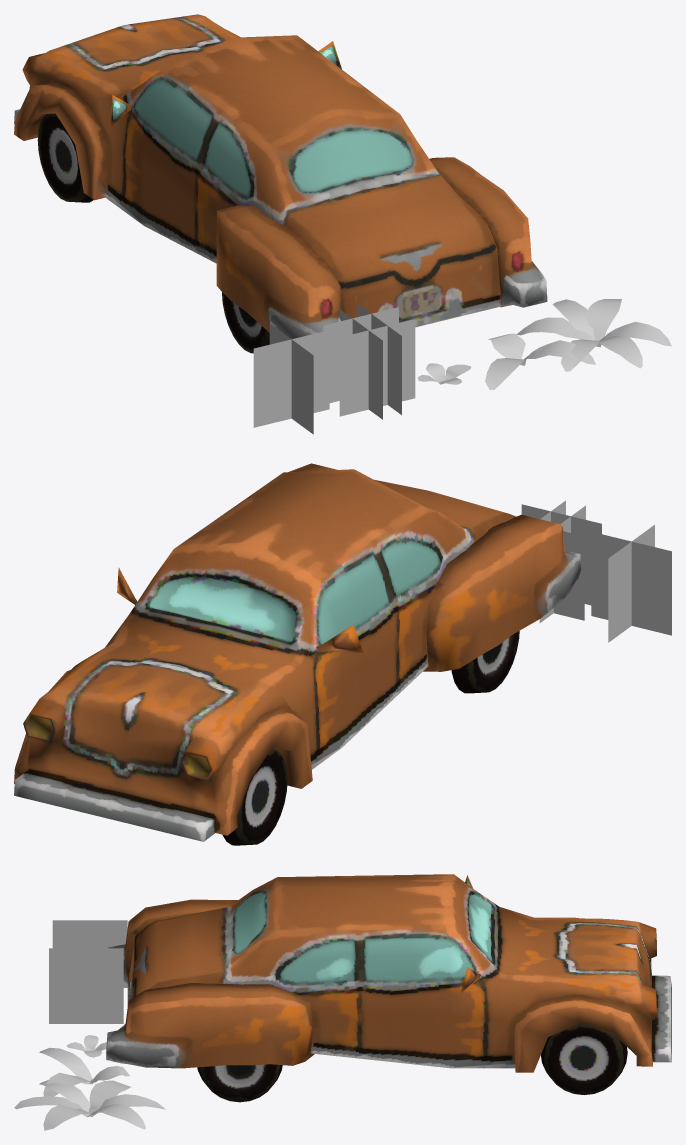
File: LP Example.fbx
The picture shows the model from 3 angles, top to bottom: view 1: azimuth 30°, elevation 25°; view 2: azimuth 150°, elevation 25°; view 3: azimuth 270°, elevation 25°; orthographic projection. The views are drawn at different scales.
Parts seen in each view (by area): view 1: Car, Grässs.002, Grässs.001, PedalPLant_B, Wheel_Front, PedalPlant_A, Wheel_Back, Flower; view 2: Car, Grässs.001, Wheel_Front, Grässs.002, Wheel_Back; view 3: Car, Grässs.002, Wheel_Front, PedalPLant_B, Wheel_Back, Grässs.001, PedalPlant_A, Flower.
Part boxes in pixels (x1,y1,x2,y2): Car: (14,14,547,339); Grässs.002: (323,304,415,419); Grässs.001: (253,323,329,434); PedalPLant_B: (516,299,671,371); Wheel_Front: (37,113,93,202); PedalPlant_A: (485,333,595,390); Wheel_Back: (222,292,269,353); Flower: (417,363,471,384); Car: (14,463,581,841); Grässs.001: (591,525,671,642); Wheel_Front: (222,748,287,845); Grässs.002: (521,500,601,622); Wheel_Back: (451,631,519,693); Car: (106,874,671,1072); Grässs.002: (49,948,123,1023); Wheel_Front: (541,1023,627,1094); PedalPLant_B: (14,1080,165,1130); Wheel_Back: (197,1064,282,1102); Grässs.001: (52,920,127,987); PedalPlant_A: (39,1047,129,1096); Flower: (66,1035,106,1057).
Size of the model in its own units: 521 by 253 by 879.
